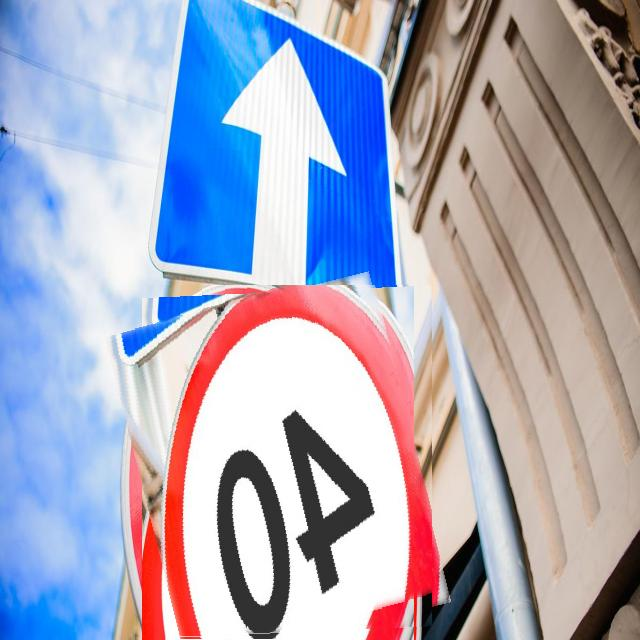speed limit 40: (123, 285, 432, 640)
